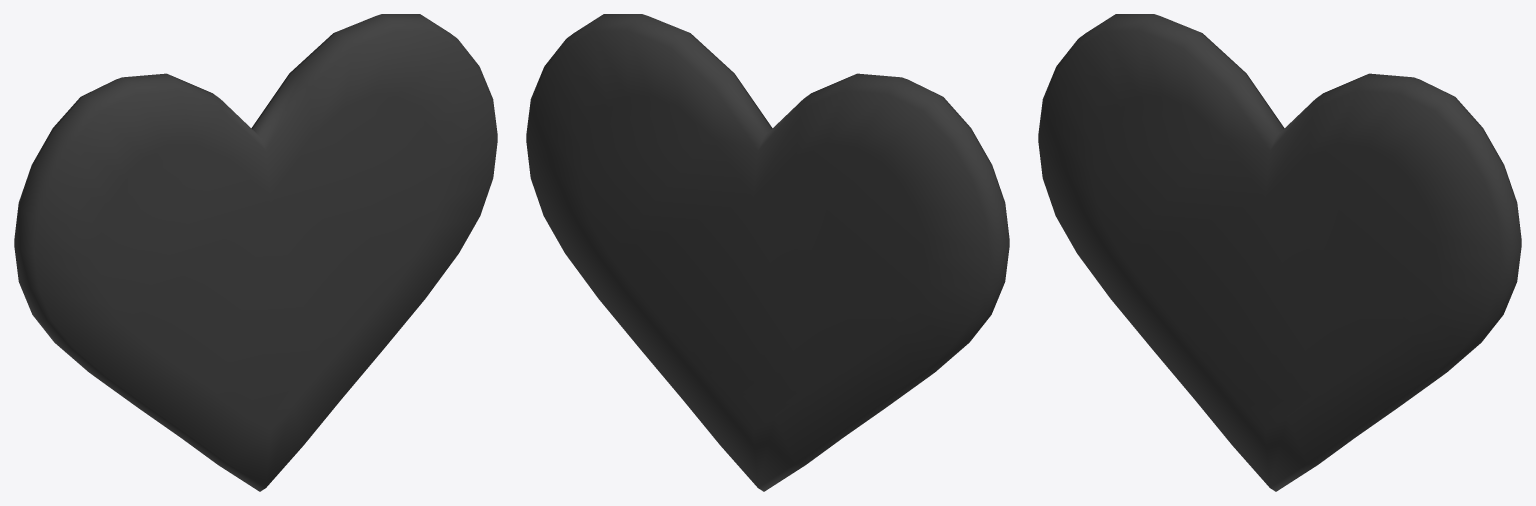
Rendered from 836ccdcd-df85-49a4-a057-04d5f2736b34.glb.
3 renders of one model, left to right at view 1: azimuth 30°, elevation 25°; view 2: azimuth 150°, elevation 25°; view 3: azimuth 330°, elevation 25°, orthographic.
Visible parts, largest first — view 1: IndicatorHeartBlack; view 2: IndicatorHeartBlack; view 3: IndicatorHeartBlack.
Boxes of the visible parts, x1,y1,x2,y2 form: IndicatorHeartBlack: (14,14,497,491); IndicatorHeartBlack: (526,14,1009,491); IndicatorHeartBlack: (1038,14,1521,491).
Bounding box in the file's own units: 0.5424 × 0.4801 × 0.0583.
1 material, 1 textured.
